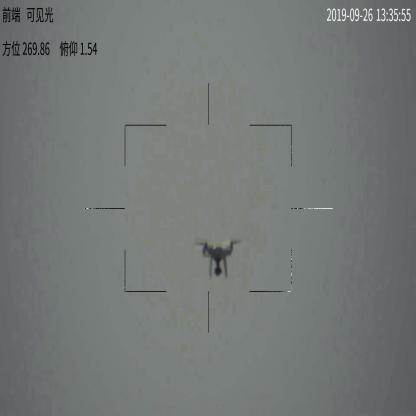uav: (194, 239, 241, 279)
